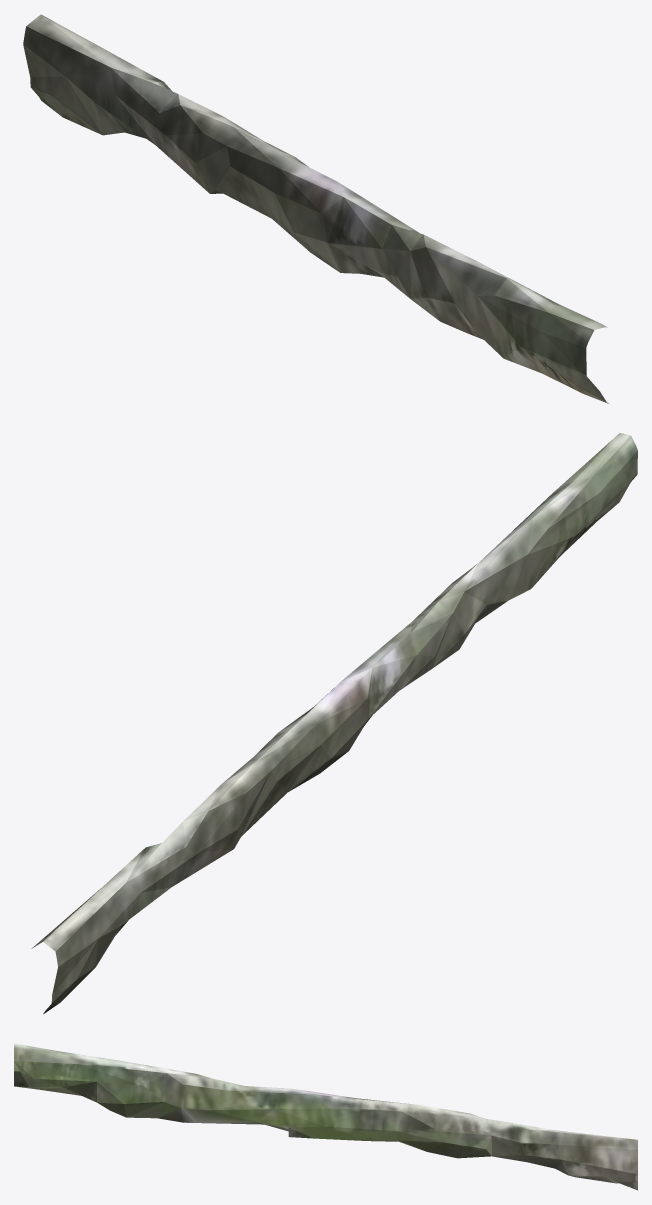
3 renders of one model, top to bottom at view 1: azimuth 30°, elevation 25°; view 2: azimuth 150°, elevation 25°; view 3: azimuth 270°, elevation 25°, orthographic. The views are drawn at different scales.
Size of the model in its own units: 0.6166 by 1.28 by 5.9.
Materials: 1 (1 with a texture image).
